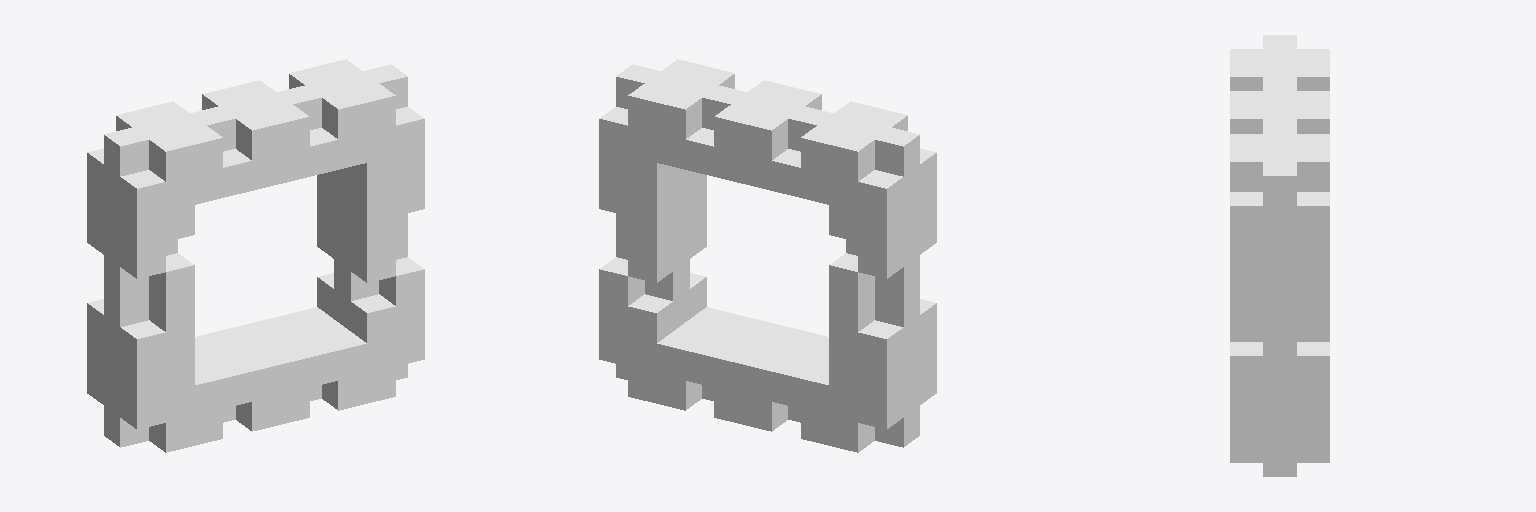
Rendered from FramePortal.obj.
3 renders of one model, left to right at view 1: azimuth 30°, elevation 25°; view 2: azimuth 150°, elevation 25°; view 3: azimuth 270°, elevation 25°, orthographic.
Visible parts, largest first — view 1: object 1; view 2: object 1; view 3: object 1.
Part boxes in pixels (x1,y1,x2,y2): object 1: (87,59,424,452); object 1: (599,59,936,452); object 1: (1230,35,1329,476).
Bounding box in the file's own units: 1 × 1 × 0.3.